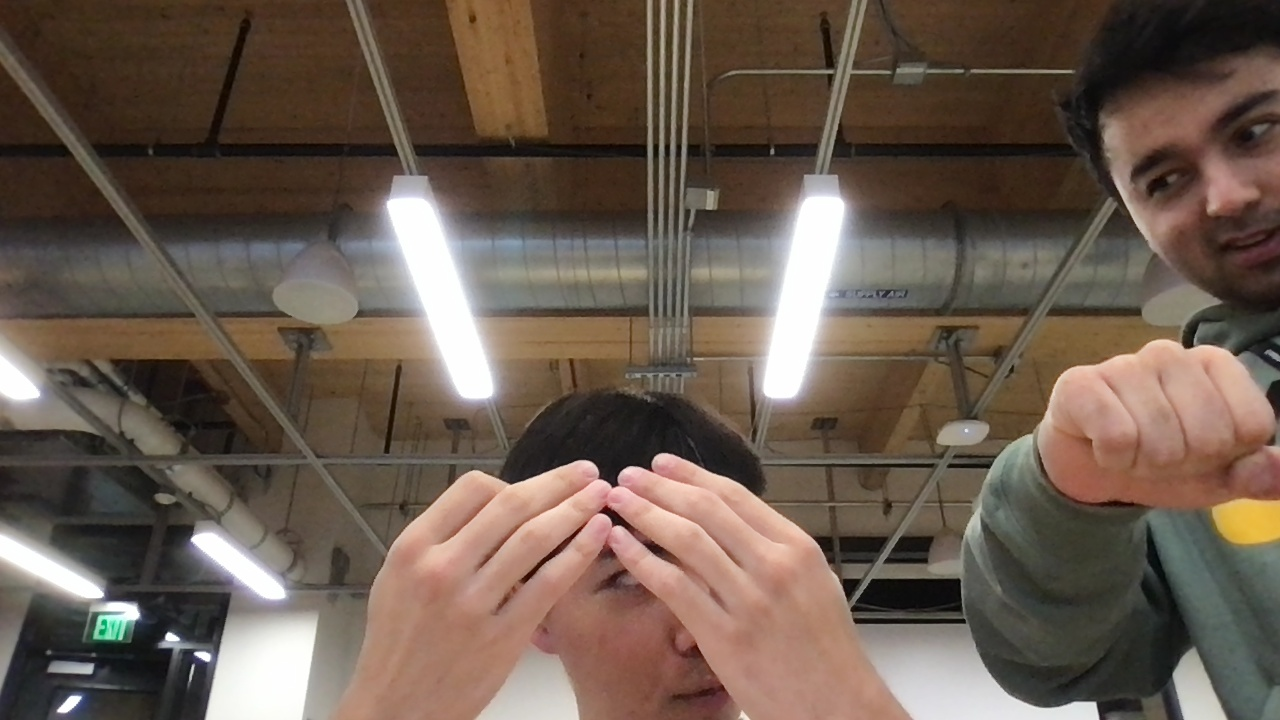Thank you: (226, 417, 956, 720)
